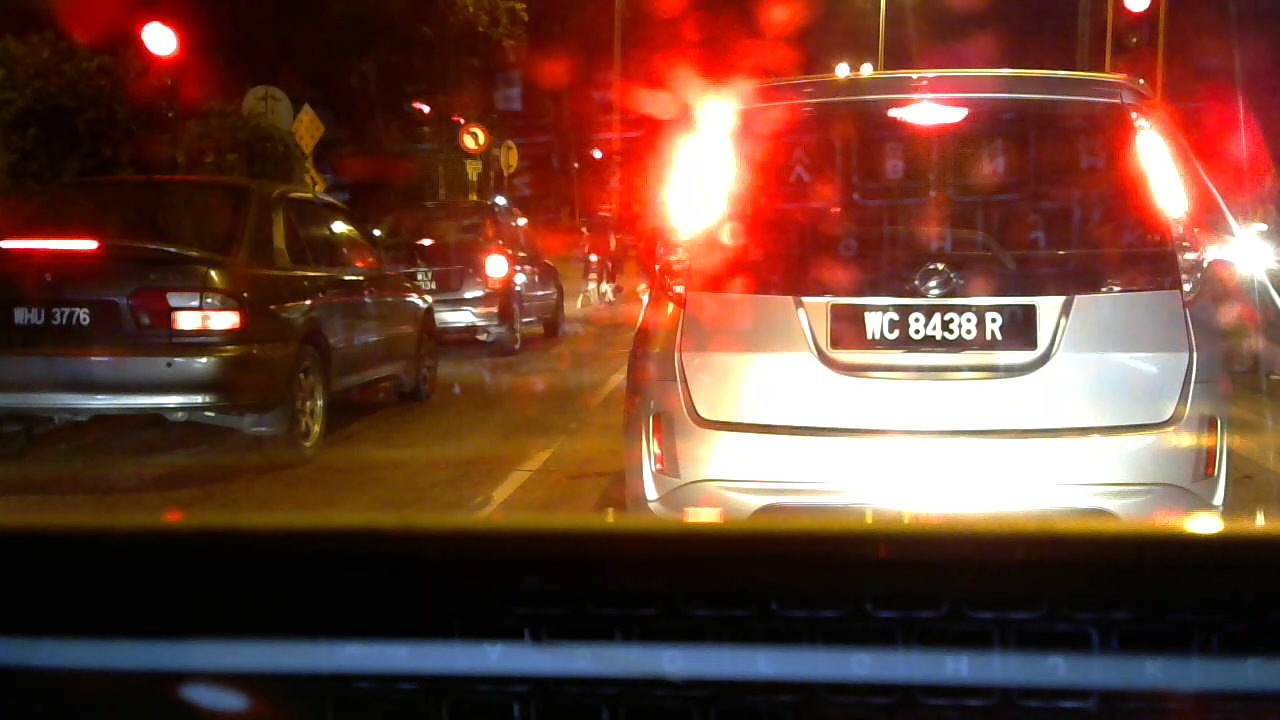Car: (611, 56, 1235, 521), (1, 159, 451, 465), (379, 192, 580, 349)
